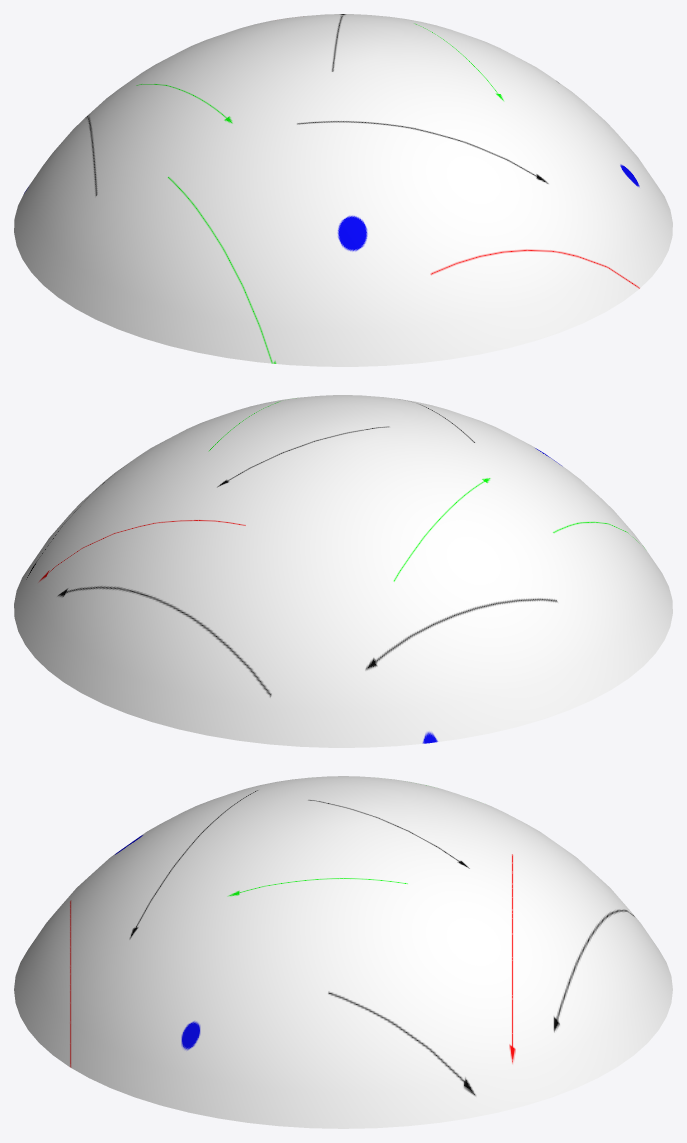
File: cloudSphere.fbx
3 renders of one model, top to bottom at view 1: azimuth 30°, elevation 25°; view 2: azimuth 150°, elevation 25°; view 3: azimuth 270°, elevation 25°, orthographic.
Parts seen in each view (by area): view 1: pSphere1; view 2: pSphere1; view 3: pSphere1.
Part boxes in pixels (<box>): pSphere1: <box>14,14,672,366</box>; pSphere1: <box>14,395,672,747</box>; pSphere1: <box>14,776,672,1128</box>.
Bounding box in the file's own units: 2.03 × 0.6093 × 2.03.
1 material, 1 textured.
